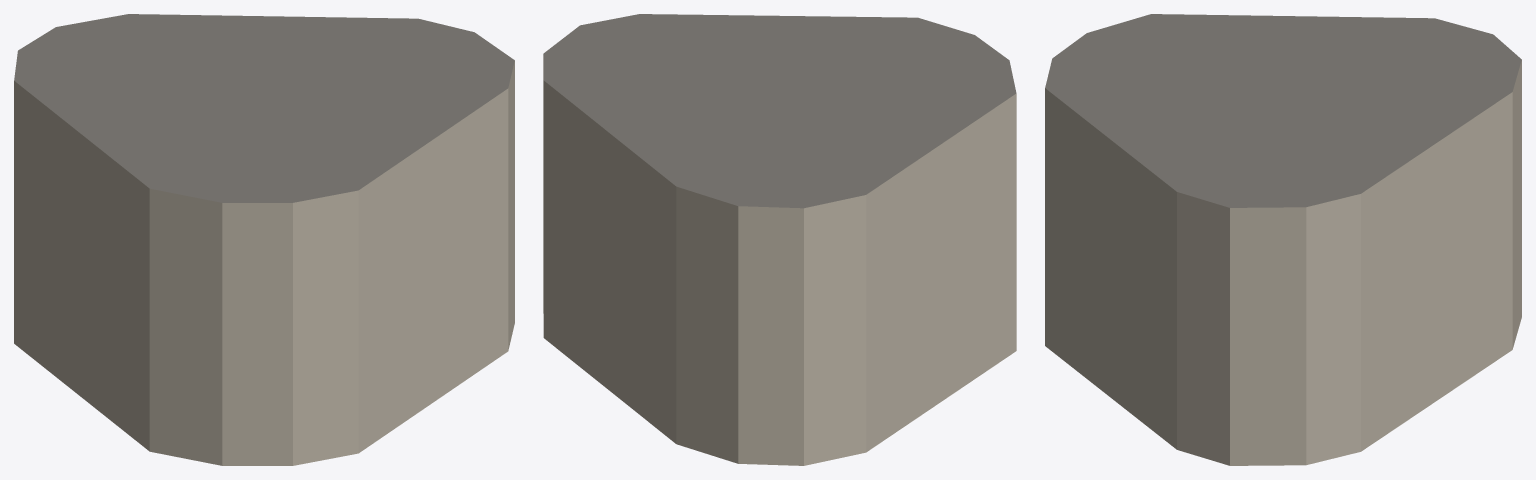
3 views of the same model, side by side, from view 1: azimuth 30°, elevation 25°; view 2: azimuth 150°, elevation 25°; view 3: azimuth 270°, elevation 25° (orthographic). The views are drawn at different scales.
Visible parts, largest first — view 1: HP-w299010046; view 2: HP-w299010046; view 3: HP-w299010046.
Boxes of the visible parts, x1,y1,x2,y2 form: HP-w299010046: [14, 14, 514, 465]; HP-w299010046: [543, 14, 1016, 465]; HP-w299010046: [1045, 14, 1521, 465].
Bounding box in the file's own units: 29.02 × 18 × 30.15.
